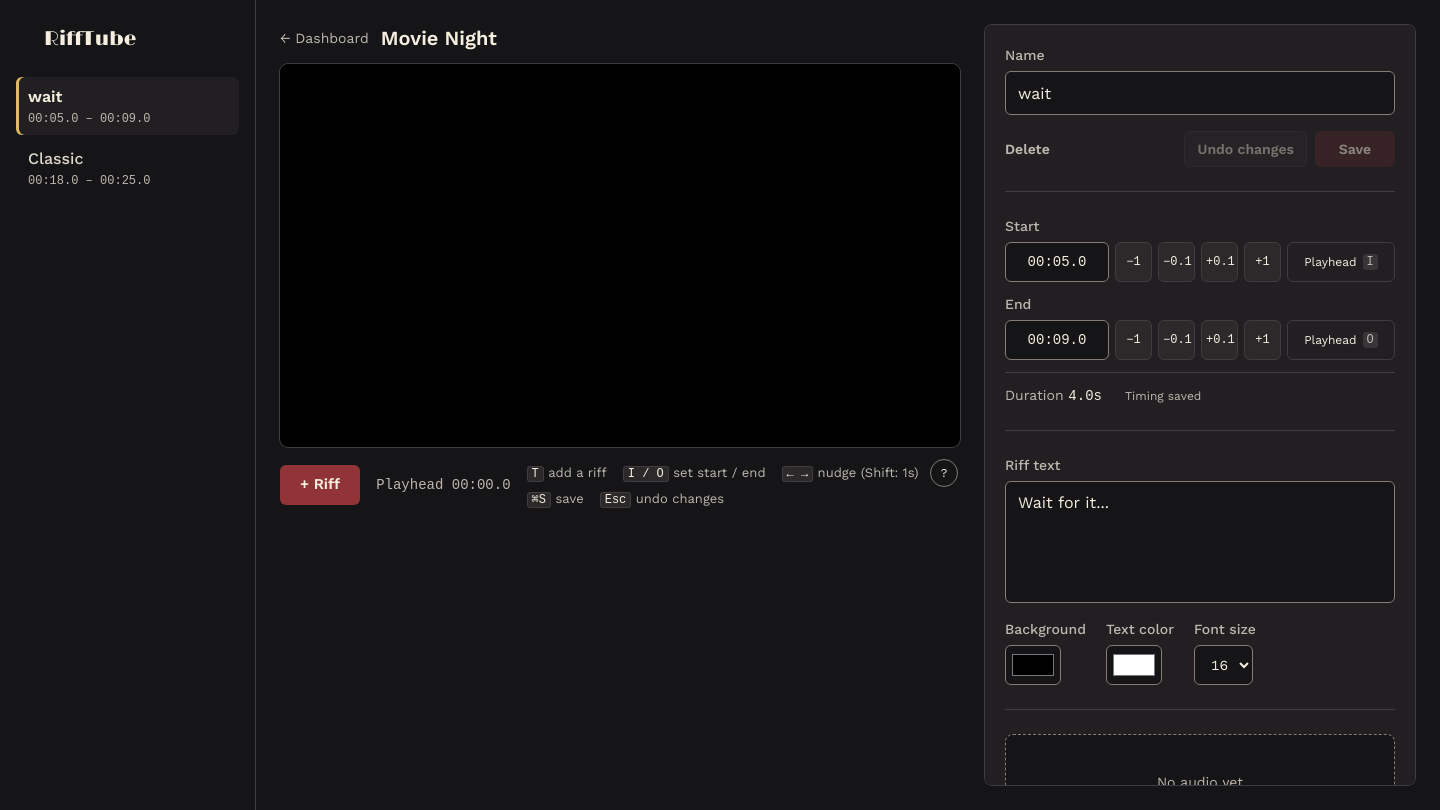
Test case: <EditorPage /> adding riffs › types a T into a text field instead of adding a riff
Check: the heading "Movie Night" is shown, box [381,24,497,52]
Type "tot" into the text box labelled "Riff text". click: (1200, 542)
box: [1005,481,1395,603]
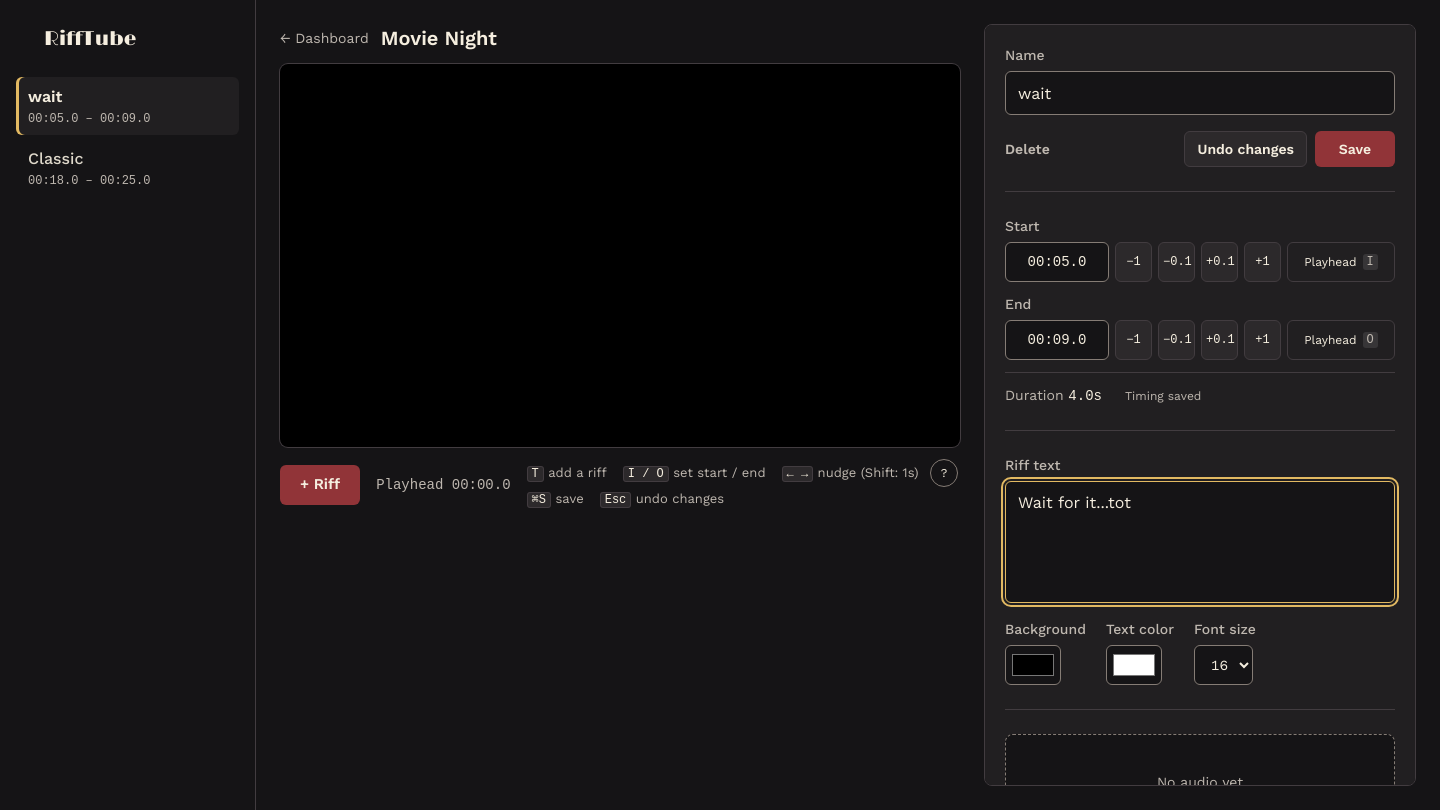
Check: the text box labelled "Riff text" holds "Wait for it...tot", box [1005,481,1395,603]
